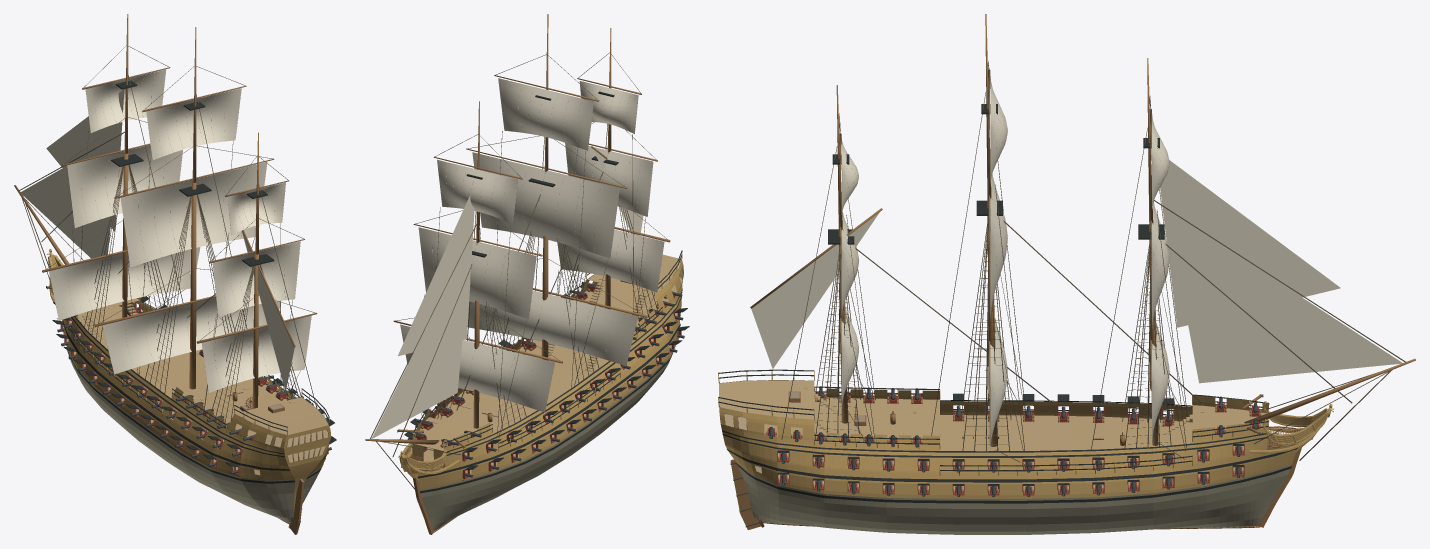
File: bellona-lod0-near.glb
3 renders of one model, left to right at view 1: azimuth 30°, elevation 25°; view 2: azimuth 150°, elevation 25°; view 3: azimuth 270°, elevation 25°, orthographic. The views are drawn at different scales.
Parts seen in each view (by area): view 1: canvas_main_1, sails__Unbleached_canvas, hull__Ochre_timber, rigging__Tarred_hemp, canvas_main_0, canvas_fore_0, hull_lower, canvas_fore_1, canvas_main_2, canvas_mizzen_0, canvas_mizzen_1, upper_gundeck (+15 smaller); view 2: sails__Unbleached_canvas, canvas_main_1, hull__Ochre_timber, canvas_main_0, rigging__Tarred_hemp, hull_lower, canvas_fore_1, canvas_fore_0, canvas_main_2, upper_gundeck, canvas_mizzen_0, canvas_mizzen_1 (+15 smaller); view 3: sails__Unbleached_canvas, hull__Ochre_timber, hull_lower, rigging__Tarred_hemp, upper_gundeck, hull__Black_tar_wales, upper_works__Ochre_timber, quarterdeck, poop_deck, decks__Black_tar_wales, hull__Gunport_inner_red, canvas_main_1 (+14 smaller).
Boxes of the visible parts, <box> form: canvas_main_1: <box>121,162,267,267</box>; sails__Unbleached_canvas: <box>20,89,294,391</box>; hull__Ochre_timber: <box>63,301,328,516</box>; rigging__Tarred_hemp: <box>18,45,316,439</box>; canvas_main_0: <box>102,297,280,374</box>; canvas_fore_0: <box>49,247,200,320</box>; hull_lower: <box>63,327,323,522</box>; canvas_fore_1: <box>67,145,182,228</box>; canvas_main_2: <box>146,88,241,160</box>; canvas_mizzen_0: <box>202,315,311,392</box>; canvas_mizzen_1: <box>212,241,300,317</box>; upper_gundeck: <box>69,305,325,466</box>; sails__Unbleached_canvas: <box>371,149,643,438</box>; canvas_main_1: <box>472,152,619,258</box>; hull__Ochre_timber: <box>412,293,681,489</box>; canvas_main_0: <box>467,290,638,365</box>; rigging__Tarred_hemp: <box>370,52,667,489</box>; hull_lower: <box>420,348,674,531</box>; canvas_fore_1: <box>418,227,536,319</box>; canvas_fore_0: <box>400,324,554,412</box>; canvas_main_2: <box>498,78,593,150</box>; upper_gundeck: <box>423,313,677,463</box>; canvas_mizzen_0: <box>558,229,664,292</box>; canvas_mizzen_1: <box>565,143,653,216</box>; sails__Unbleached_canvas: <box>751,160,1402,383</box>; hull__Ochre_timber: <box>722,401,1297,498</box>; hull_lower: <box>735,461,1291,534</box>; rigging__Tarred_hemp: <box>779,61,1405,468</box>; upper_gundeck: <box>726,415,1244,470</box>; hull__Black_tar_wales: <box>722,400,1297,503</box>; upper_works__Ochre_timber: <box>719,380,1269,450</box>; quarterdeck: <box>724,397,939,442</box>; poop_deck: <box>719,380,814,419</box>; decks__Black_tar_wales: <box>718,369,1268,471</box>; hull__Gunport_inner_red: <box>777,405,1244,495</box>; canvas_main_1: <box>990,174,1007,317</box>.
Size of what is drawn, in the model's own units: 25.01 by 52.06 by 63.85.
